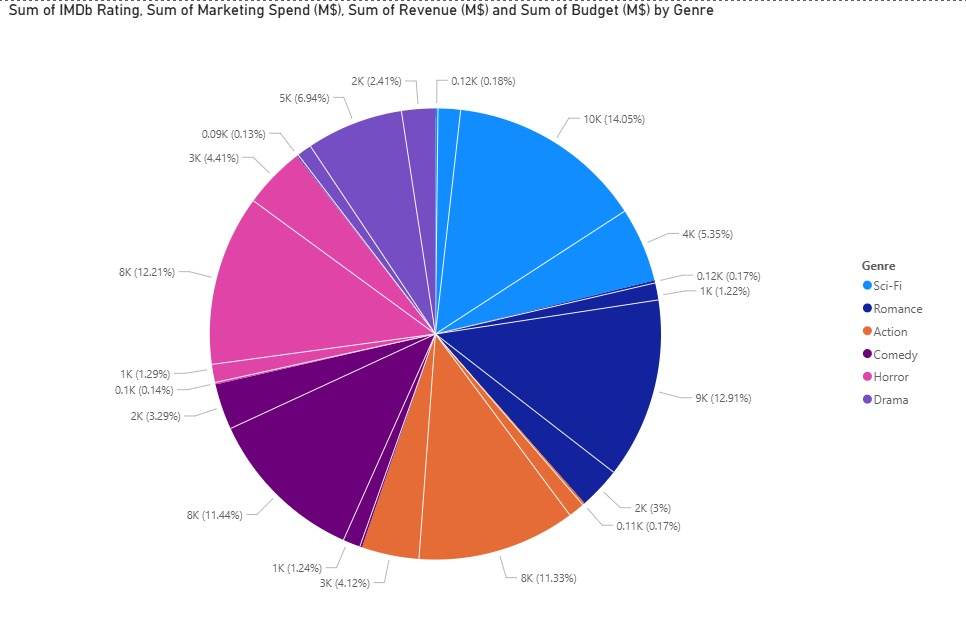

Layout of this report page (visuals, bound fields, positions):
{"tool":"powerbi","page":{"name":"Page 4","canvas":[1280,720],"ordinal":3},"visuals":[{"type":"pieChart","fields":{"Y":["Sum(cleaned_movies_dataset.IMDb Rating)","Sum(cleaned_movies_dataset.Marketing Spend (M$))","Sum(cleaned_movies_dataset.Revenue (M$))","Sum(cleaned_movies_dataset.Budget (M$))"],"Category":["cleaned_movies_dataset.Genre","cleaned_movies_dataset.Success"]},"box":[10,0,1035,720],"z":0}]}

Visuals, with their boxes on the page's 1280x720 design canvas (x1, y1, x2, y2). These are canvas units, not pixel positions in the 966x637 screenshot, which may show the page scaled, cropped or inside an application window:
pieChart - Sum(cleaned_movies_dataset.IMDb Rating) x Sum(cleaned_movies_dataset.Marketing Spend (M$)): [x1=10, y1=0, x2=1045, y2=720]
